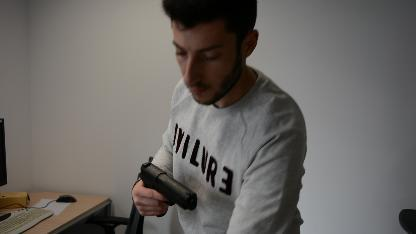pistol: (138, 160, 198, 218)
